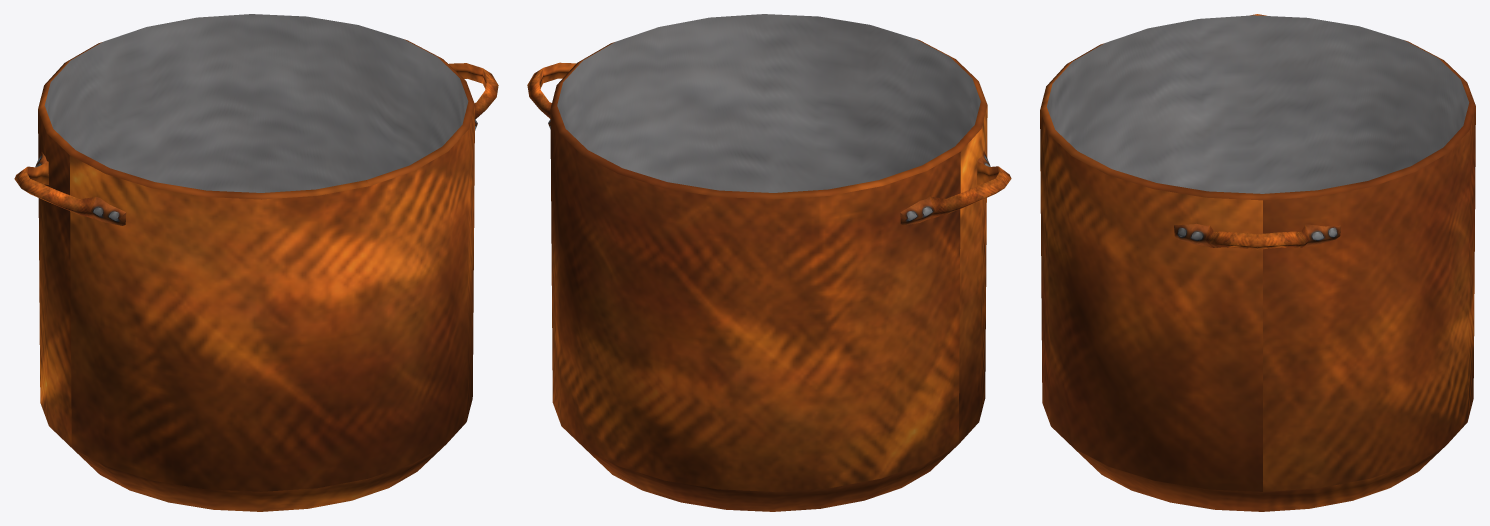
File: Pot_Large.fbx
3 renders of one model, left to right at view 1: azimuth 30°, elevation 25°; view 2: azimuth 150°, elevation 25°; view 3: azimuth 270°, elevation 25°, orthographic.
Parts seen in each view (by area): view 1: Potlarge_LOD0; view 2: Potlarge_LOD0; view 3: Potlarge_LOD0.
Part boxes in pixels (<box>): Potlarge_LOD0: <box>14,14,498,511</box>; Potlarge_LOD0: <box>527,14,1011,511</box>; Potlarge_LOD0: <box>1040,14,1475,511</box>.
Size of what is drawn, in the model's own units: 126 by 84.53 by 101.
